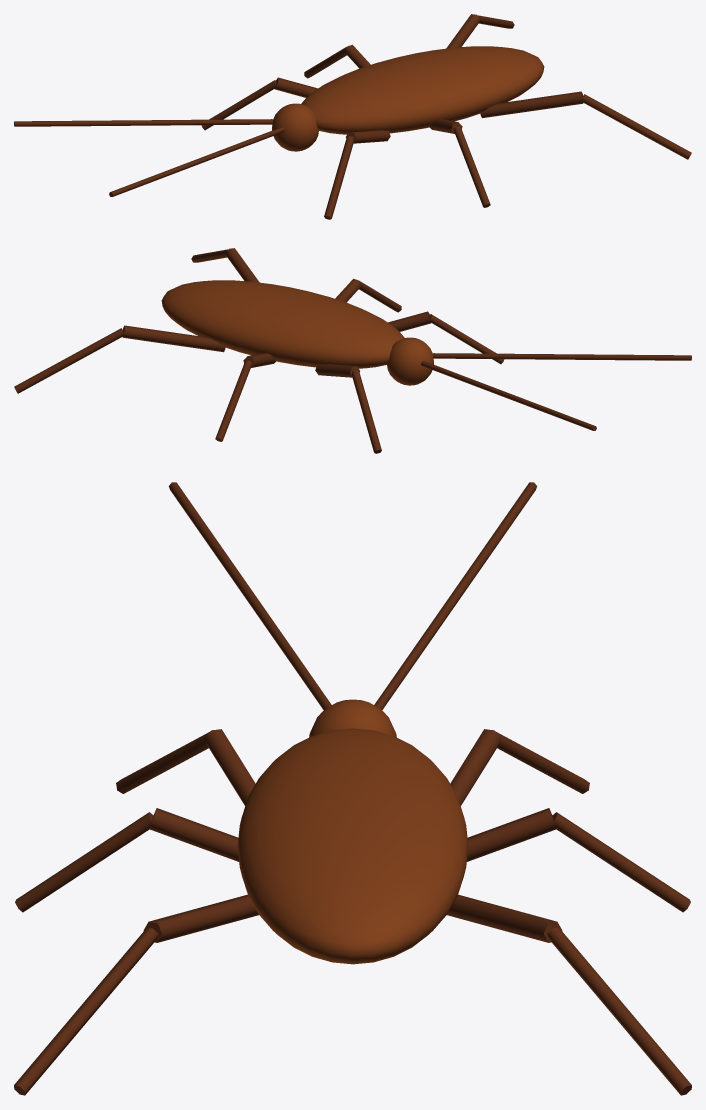
File: test-roach.glb
3 renders of one model, top to bottom at view 1: azimuth 30°, elevation 25°; view 2: azimuth 150°, elevation 25°; view 3: azimuth 270°, elevation 25°, orthographic. The views are drawn at different scales.
Size of the model in its own units: 90.56 by 11.51 by 52.86.
